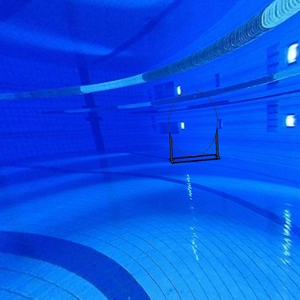circle: (167, 88, 222, 166)
